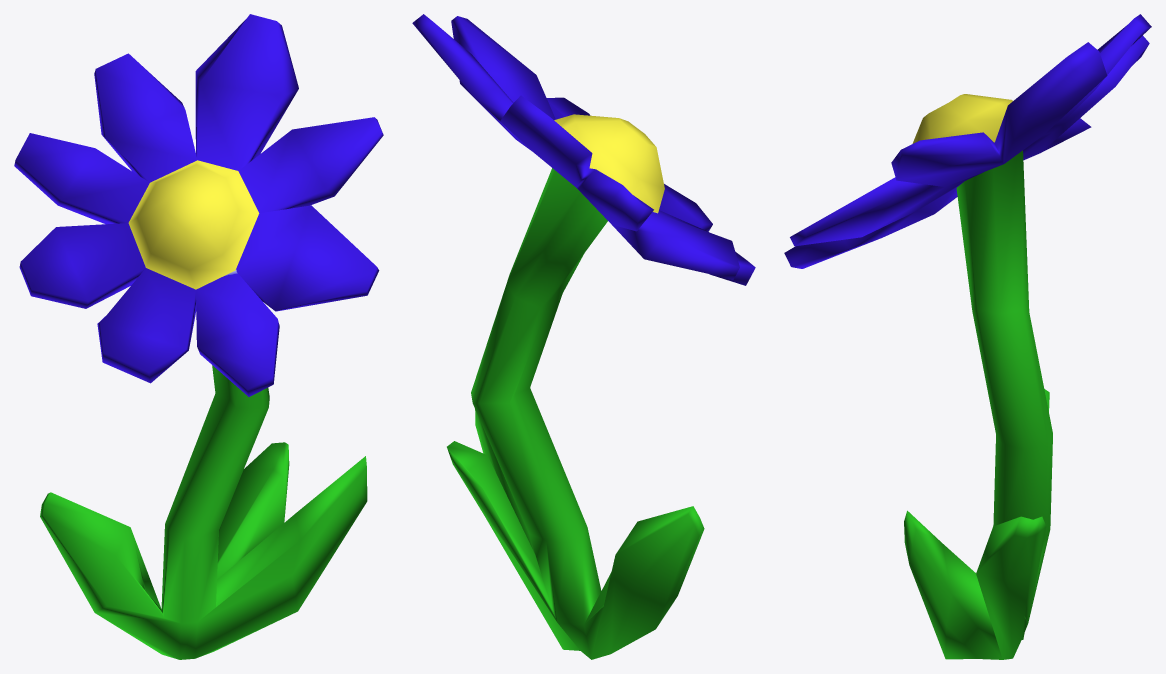
The model's file is Flor_006_LOD.fbx.
3 renders of one model, left to right at view 1: azimuth 30°, elevation 25°; view 2: azimuth 150°, elevation 25°; view 3: azimuth 270°, elevation 25°, orthographic. The views are drawn at different scales.
Visible parts, largest first — view 1: Flor_006_LOD0; view 2: Flor_006_LOD0; view 3: Flor_006_LOD0.
Boxes of the visible parts, x1=… form: Flor_006_LOD0: x1=14, y1=14, x2=383, y2=659; Flor_006_LOD0: x1=412, y1=14, x2=755, y2=659; Flor_006_LOD0: x1=784, y1=14, x2=1151, y2=659.
Size of what is drawn, in the model's own units: 86.99 by 158 by 79.29.
